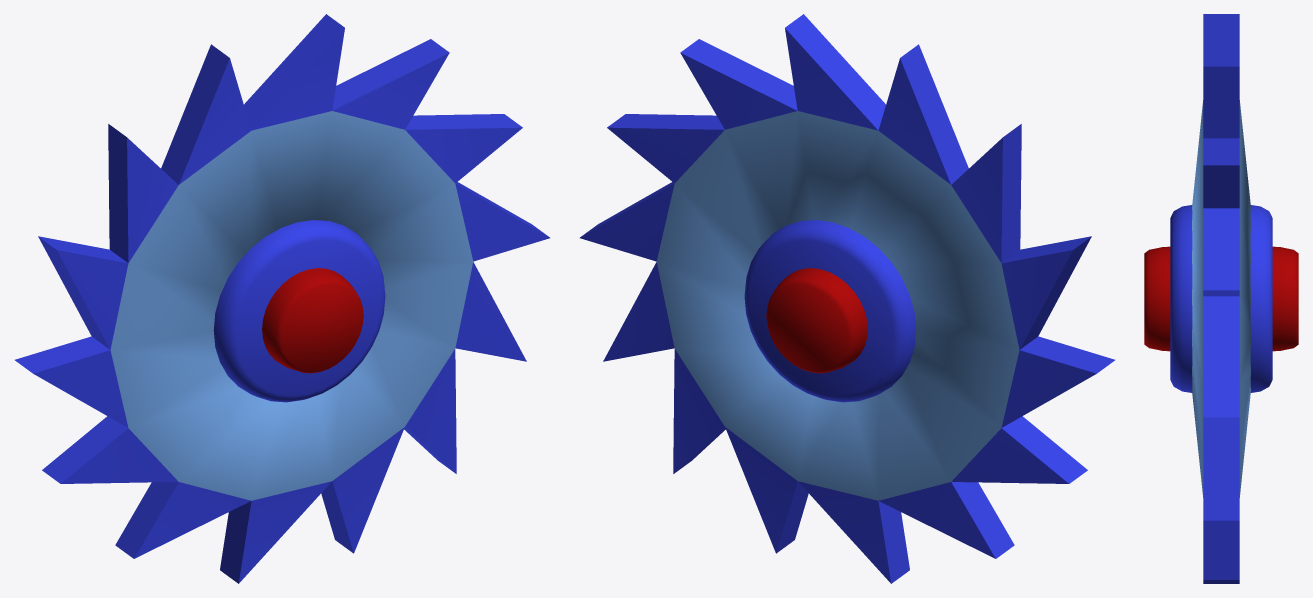
Rendered from Saw_2.fbx.
The picture shows the model from 3 angles, left to right: view 1: azimuth 30°, elevation 25°; view 2: azimuth 150°, elevation 25°; view 3: azimuth 270°, elevation 25°; orthographic projection. The views are drawn at different scales.
Parts seen in each view (by area): view 1: Saw_2; view 2: Saw_2; view 3: Saw_2.
Boxes of the visible parts, <box> form: Saw_2: <box>15,14,549,583</box>; Saw_2: <box>580,14,1114,583</box>; Saw_2: <box>1144,14,1298,583</box>.
Bounding box in the file's own units: 2.85 × 0.7594 × 2.79.
